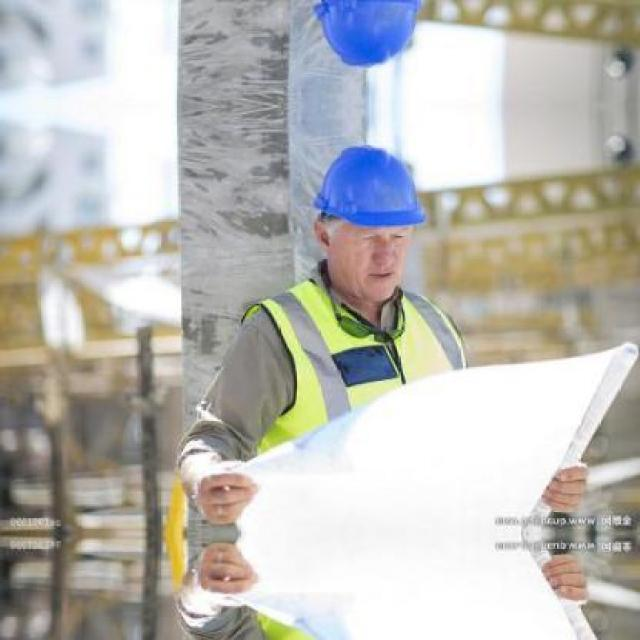Reflective-Jacket: (235, 279, 477, 458)
Safety-Helmet: (298, 136, 434, 242)
